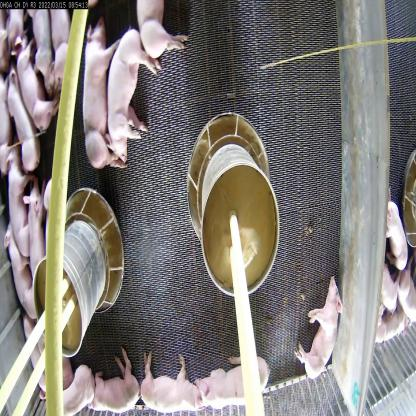Pig: (102, 22, 164, 164), (79, 16, 126, 174), (293, 266, 343, 381), (192, 347, 272, 412), (13, 31, 62, 137), (137, 342, 207, 414), (1, 139, 40, 258), (2, 215, 43, 322), (82, 342, 141, 415), (132, 0, 192, 66), (23, 171, 49, 280), (385, 191, 409, 273)
